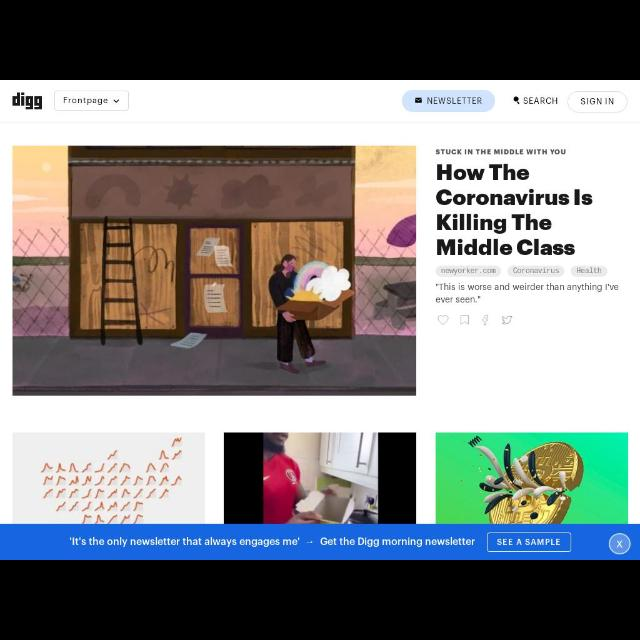button: (610, 534, 630, 554)
icon: (438, 315, 448, 325), (460, 316, 470, 324), (502, 316, 512, 324), (514, 96, 520, 104), (482, 316, 488, 324), (616, 540, 622, 548), (414, 98, 422, 102), (306, 541, 314, 543), (114, 100, 118, 102)
image: (13, 146, 417, 394), (12, 433, 206, 523), (226, 433, 417, 523), (436, 433, 628, 522), (12, 92, 42, 110)
spinner: (55, 92, 128, 110)
text: (437, 163, 593, 254), (436, 283, 618, 303), (70, 536, 300, 548), (320, 537, 476, 547), (436, 150, 566, 154), (498, 539, 560, 545), (64, 97, 108, 105), (428, 97, 482, 103), (442, 268, 496, 274), (514, 268, 558, 274), (524, 98, 558, 104), (580, 98, 614, 104), (577, 268, 601, 274)
textbutton: (403, 90, 495, 112), (487, 533, 571, 551), (568, 91, 628, 112), (437, 266, 501, 276), (508, 266, 564, 276), (571, 266, 607, 276)
toolbar: (1, 80, 640, 121)
